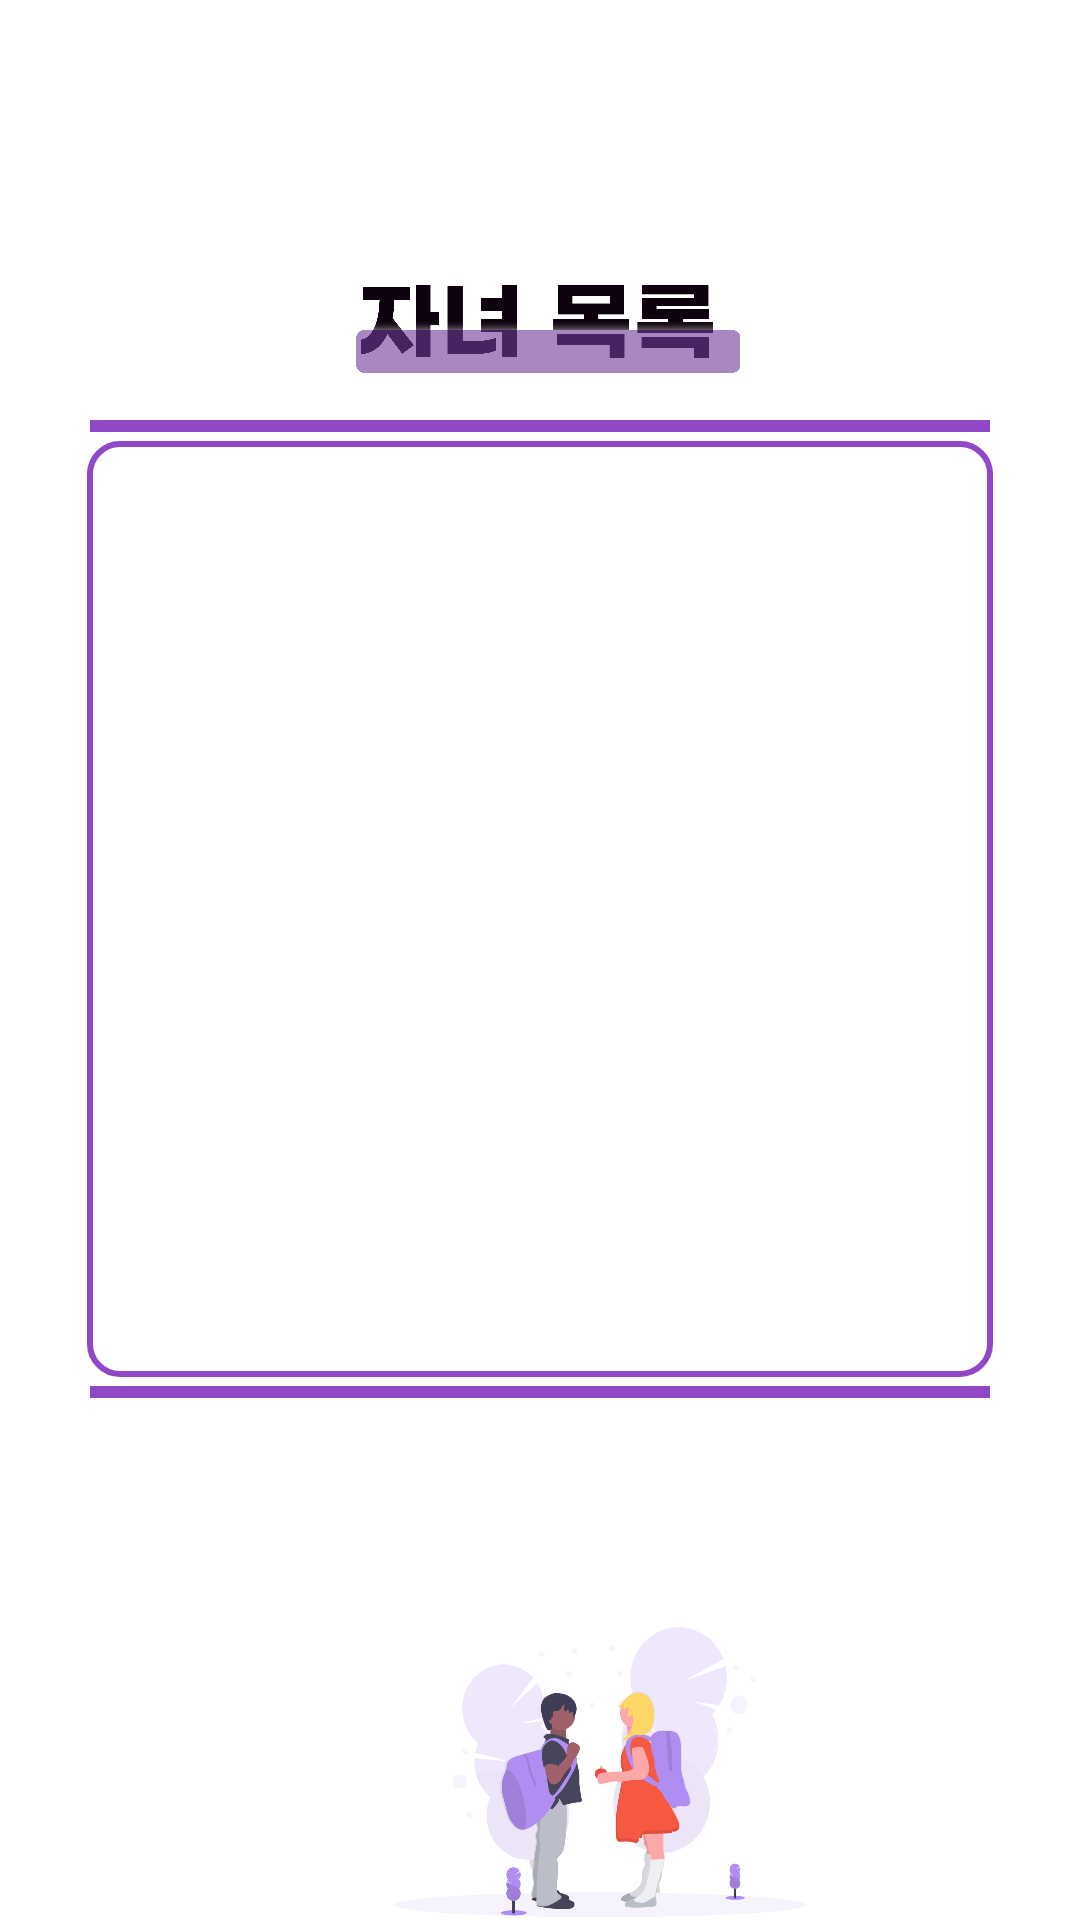

Named icons in this screenshot (1080x1920) and their centers, (x,y):
child down: (610,1803)
